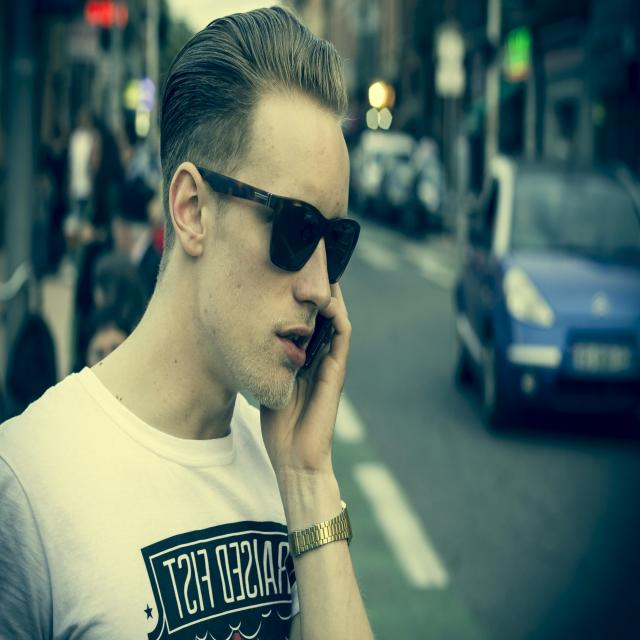adult: (0, 8, 374, 640)
